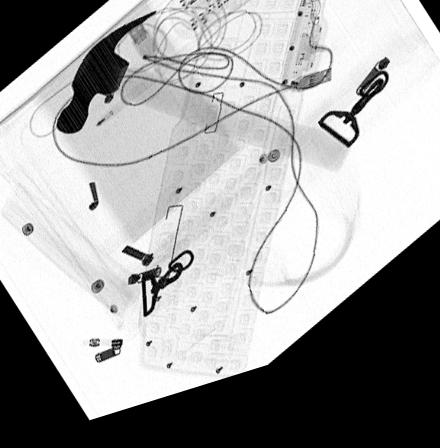Hammer: (54, 18, 350, 194)
